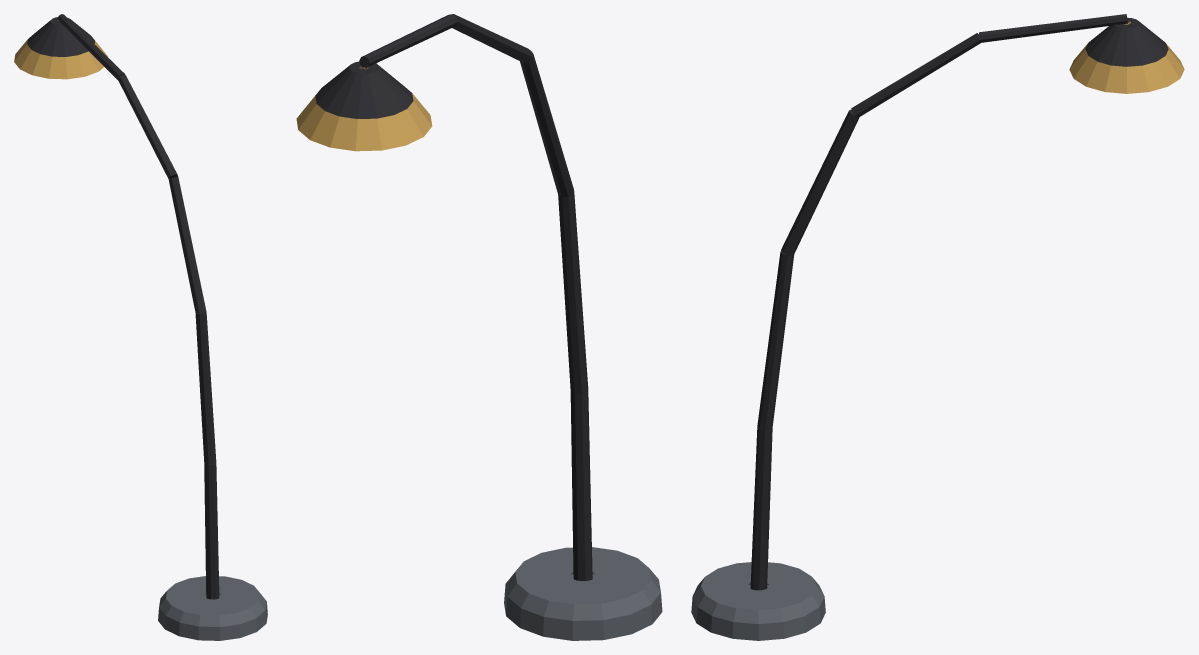
Rendered from FN_Lamp_Arc.obj.
The picture shows the model from 3 angles, left to right: view 1: azimuth 30°, elevation 25°; view 2: azimuth 150°, elevation 25°; view 3: azimuth 270°, elevation 25°; orthographic projection. The views are drawn at different scales.
Visible parts, largest first — view 1: FN_Lamp_Arc; view 2: FN_Lamp_Arc; view 3: FN_Lamp_Arc.
Part boxes in pixels (bbox=[...]): FN_Lamp_Arc: bbox=[14, 14, 267, 640]; FN_Lamp_Arc: bbox=[296, 14, 662, 640]; FN_Lamp_Arc: bbox=[691, 14, 1184, 640].
Size of the model in its own units: 0.42 by 2.06 by 1.54.
2 materials, 1 textured.
